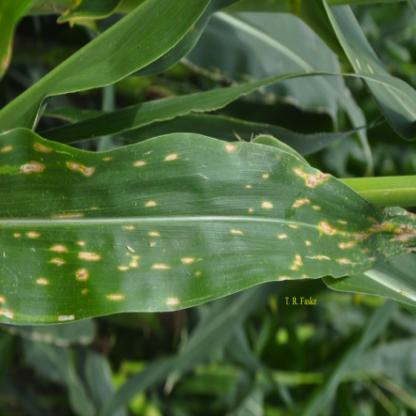corn rust leaf: (1, 133, 415, 328)
